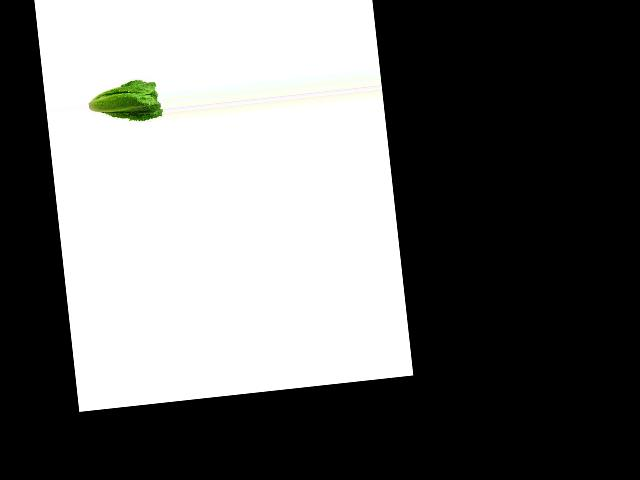lettuce: (86, 72, 163, 128)
